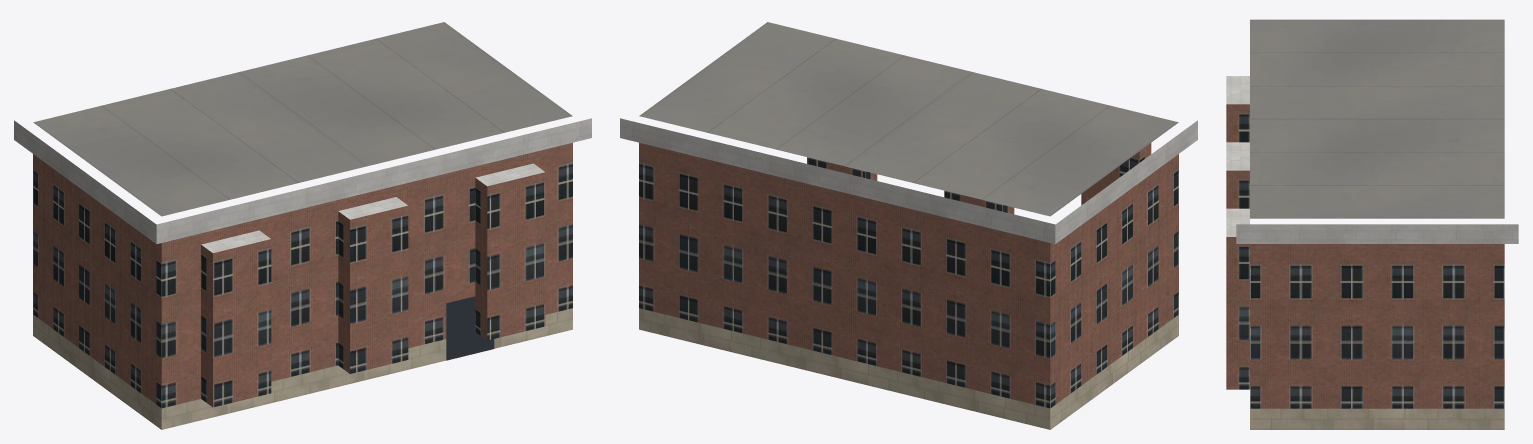
Rendered from dc_brick_row.glb.
3 renders of one model, left to right at view 1: azimuth 30°, elevation 25°; view 2: azimuth 150°, elevation 25°; view 3: azimuth 270°, elevation 25°, orthographic.
Parts seen in each view (by area): view 1: dc_brick_row; view 2: dc_brick_row; view 3: dc_brick_row.
Boxes of the visible parts, x1=… form: dc_brick_row: x1=14, y1=22, x2=591, y2=429; dc_brick_row: x1=620, y1=22, x2=1197, y2=429; dc_brick_row: x1=1226, y1=19, x2=1518, y2=429.
Size of the model in its own units: 25.4 by 11.9 by 14.9.
5 materials, 5 textured.
